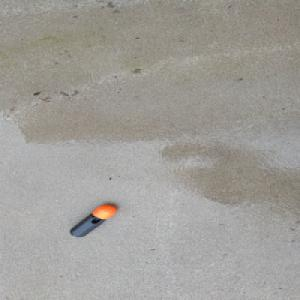PlasticPart: (68, 204, 117, 237)
